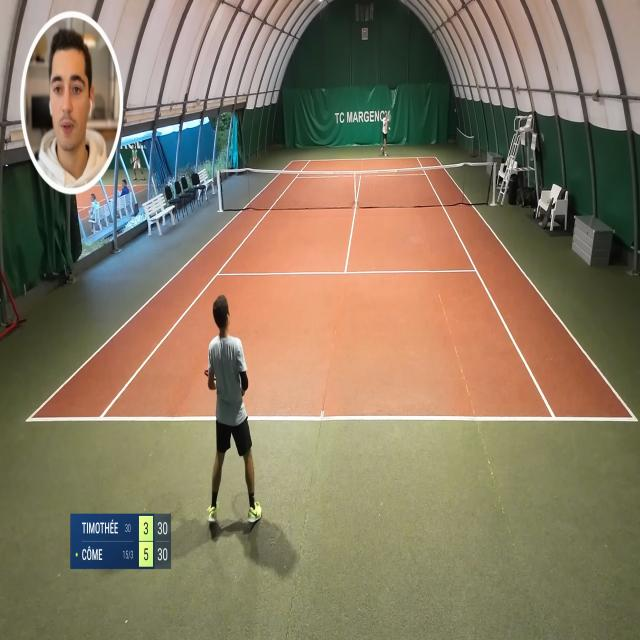ball: (388, 126, 391, 131)
